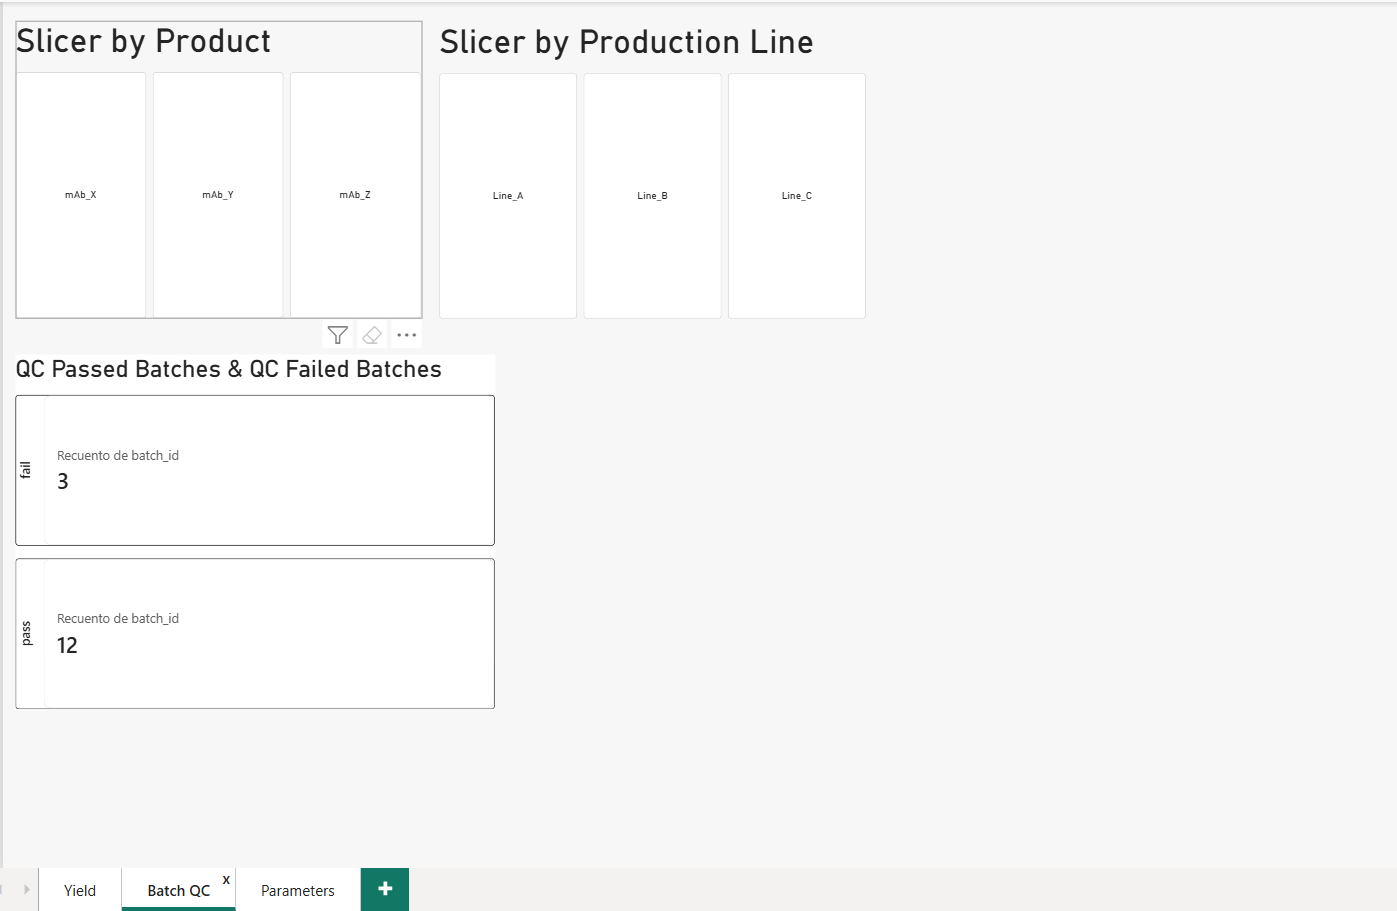

What the dashboard file says about the page in this screenshot:
{"tool":"powerbi","page":{"name":"Batch QC","canvas":[1920,1080],"ordinal":1},"visuals":[{"type":"advancedSlicerVisual","title":"Slicer by Product","fields":{"Values":["batches_clean_for_powerbi.product_name"]},"box":[16.2,23.4,507.7,371.2],"z":0},{"type":"advancedSlicerVisual","title":"Slicer by Production Line","fields":{"Values":["batches_clean_for_powerbi.production_line"]},"box":[544.7,25.2,533.9,370.3],"z":1},{"type":"cardVisual","title":"QC Passed Batches & QC Failed Batches","fields":{"Data":["CountNonNull(batches_clean_for_powerbi.batch_id)"],"Rows":["batches_clean_for_powerbi.overall_qc_result"]},"box":[15.1,439.3,598.7,444],"z":2}]}

Visuals, with their boxes on the page's 1920x1080 design canvas (x1, y1, x2, y2). These are canvas units, not pixel positions in the 1397x911 screenshot, which may show the page scaled, cropped or inside an application window:
"Slicer by Product" advancedSlicerVisual: pyautogui.locateOnScreen(16, 23, 524, 395)
"Slicer by Production Line" advancedSlicerVisual: pyautogui.locateOnScreen(545, 25, 1079, 396)
"QC Passed Batches & QC Failed Batches" cardVisual: pyautogui.locateOnScreen(15, 439, 614, 883)
